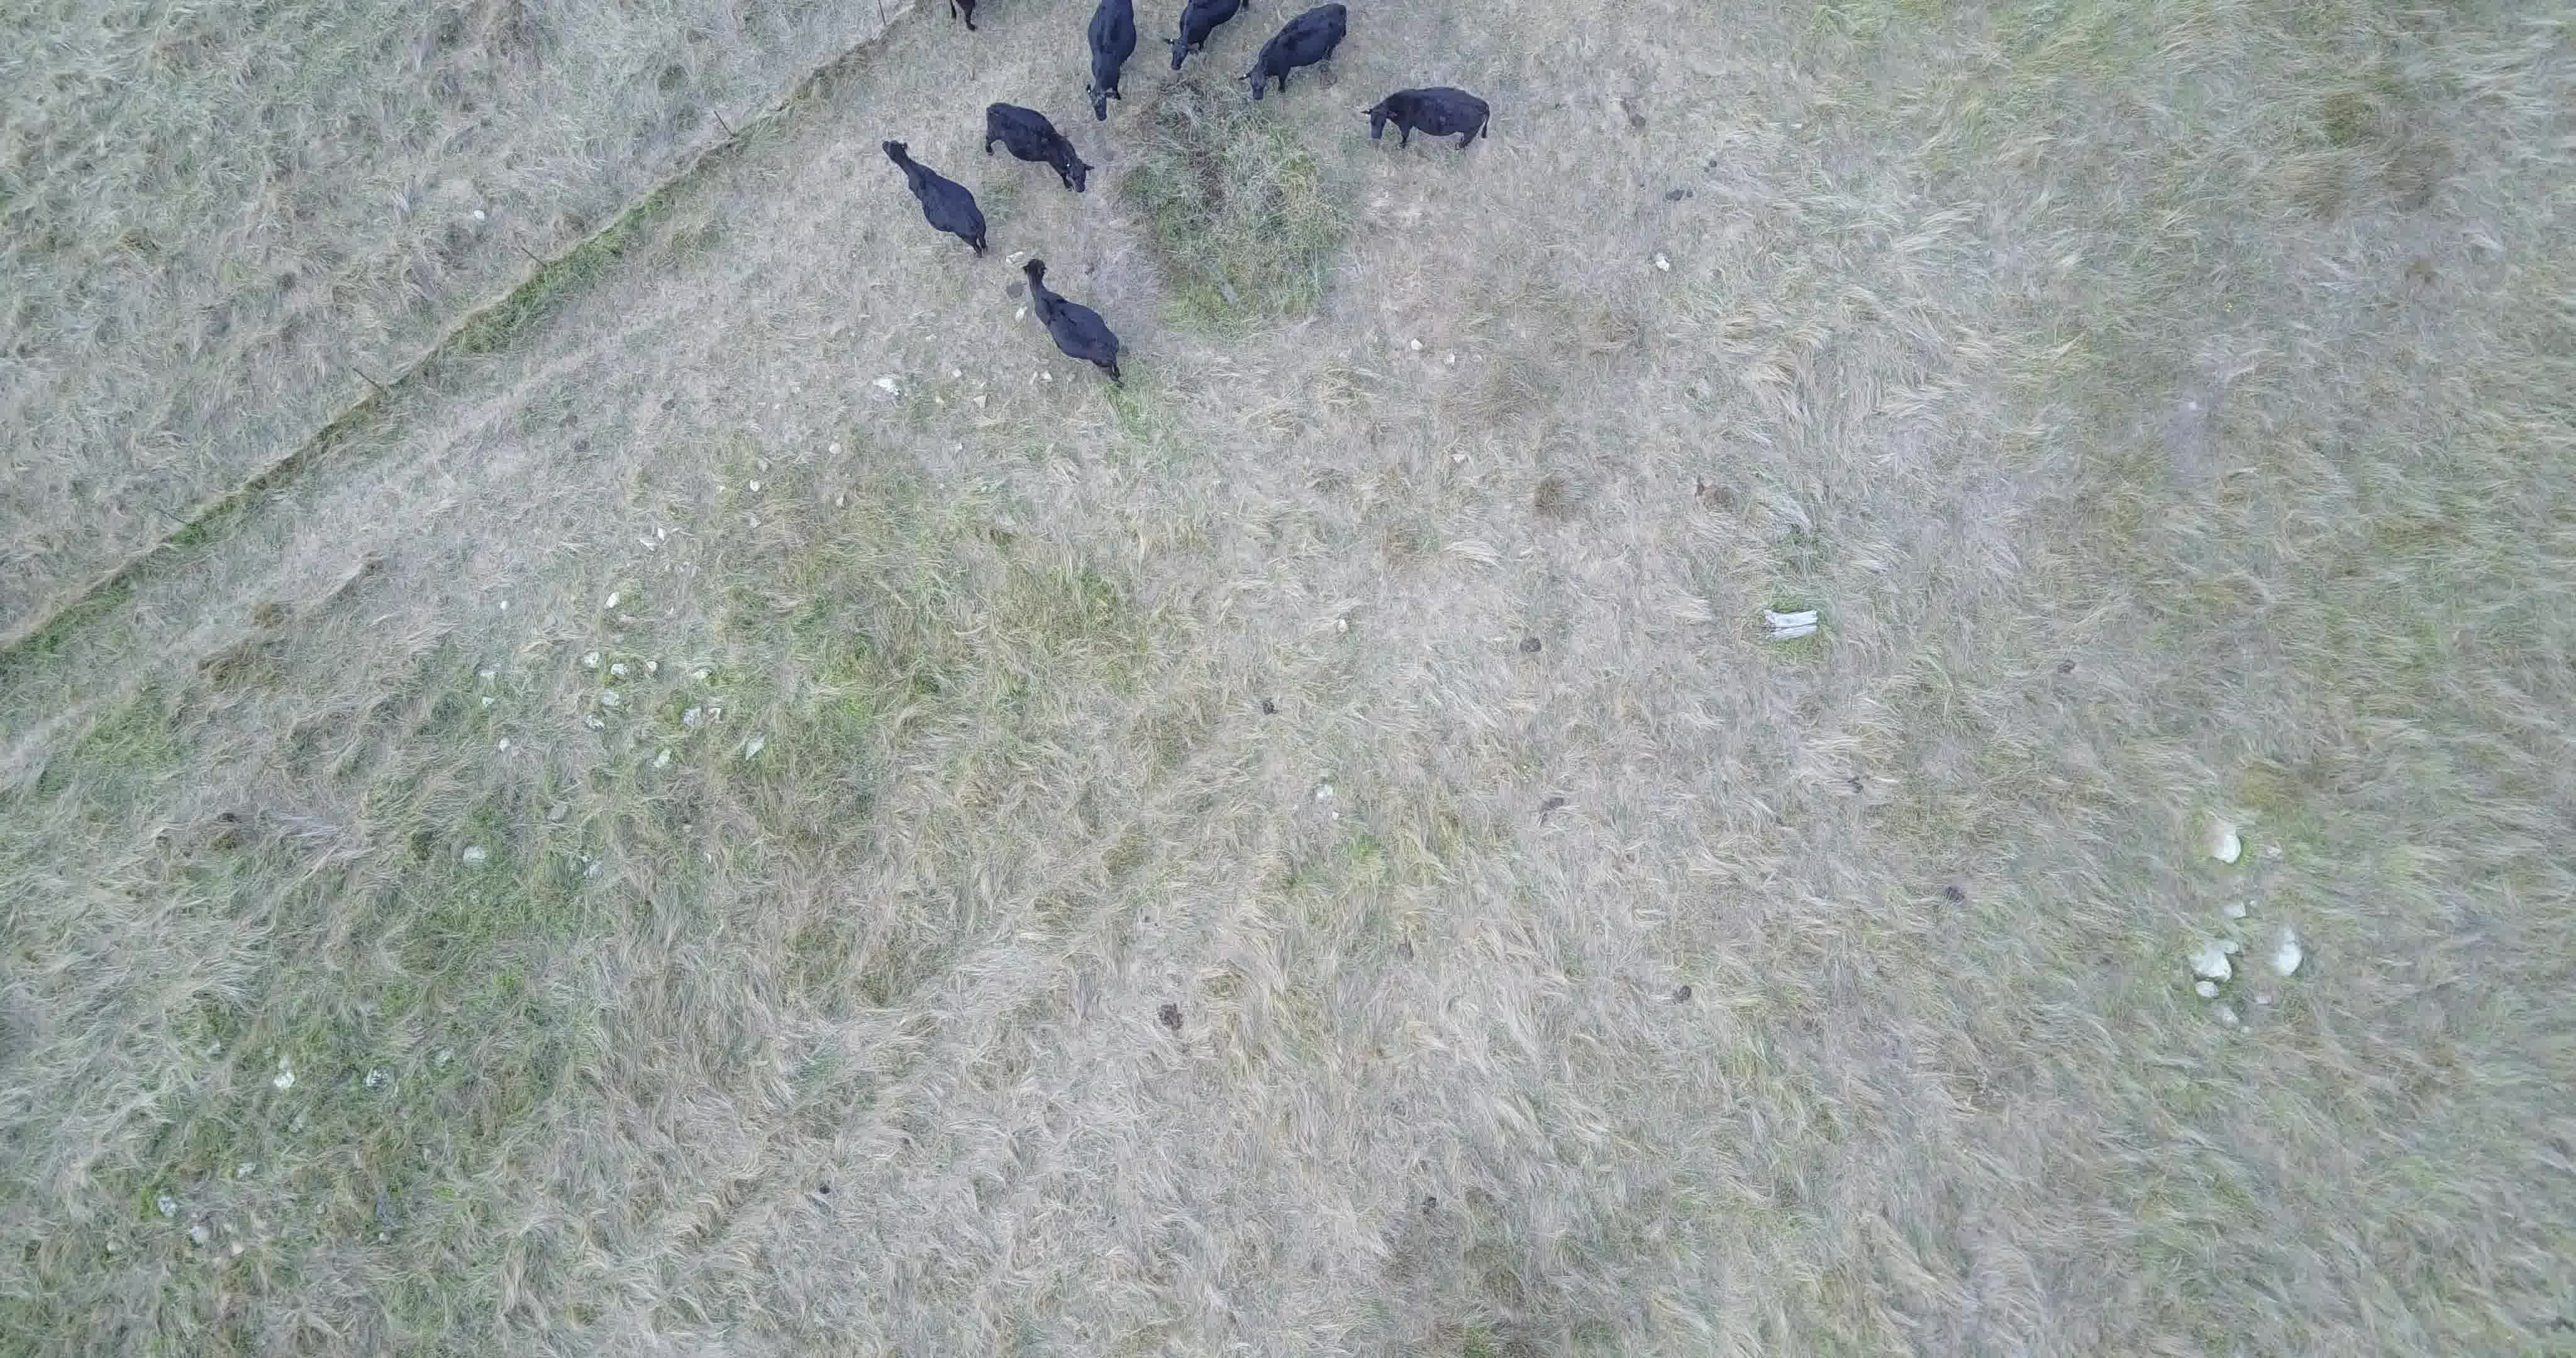cattle: (877, 129, 992, 276), (1021, 249, 1135, 390), (976, 99, 1092, 199), (1242, 2, 1351, 101), (1361, 85, 1491, 157), (1085, 2, 1140, 119), (1167, 0, 1252, 70)
